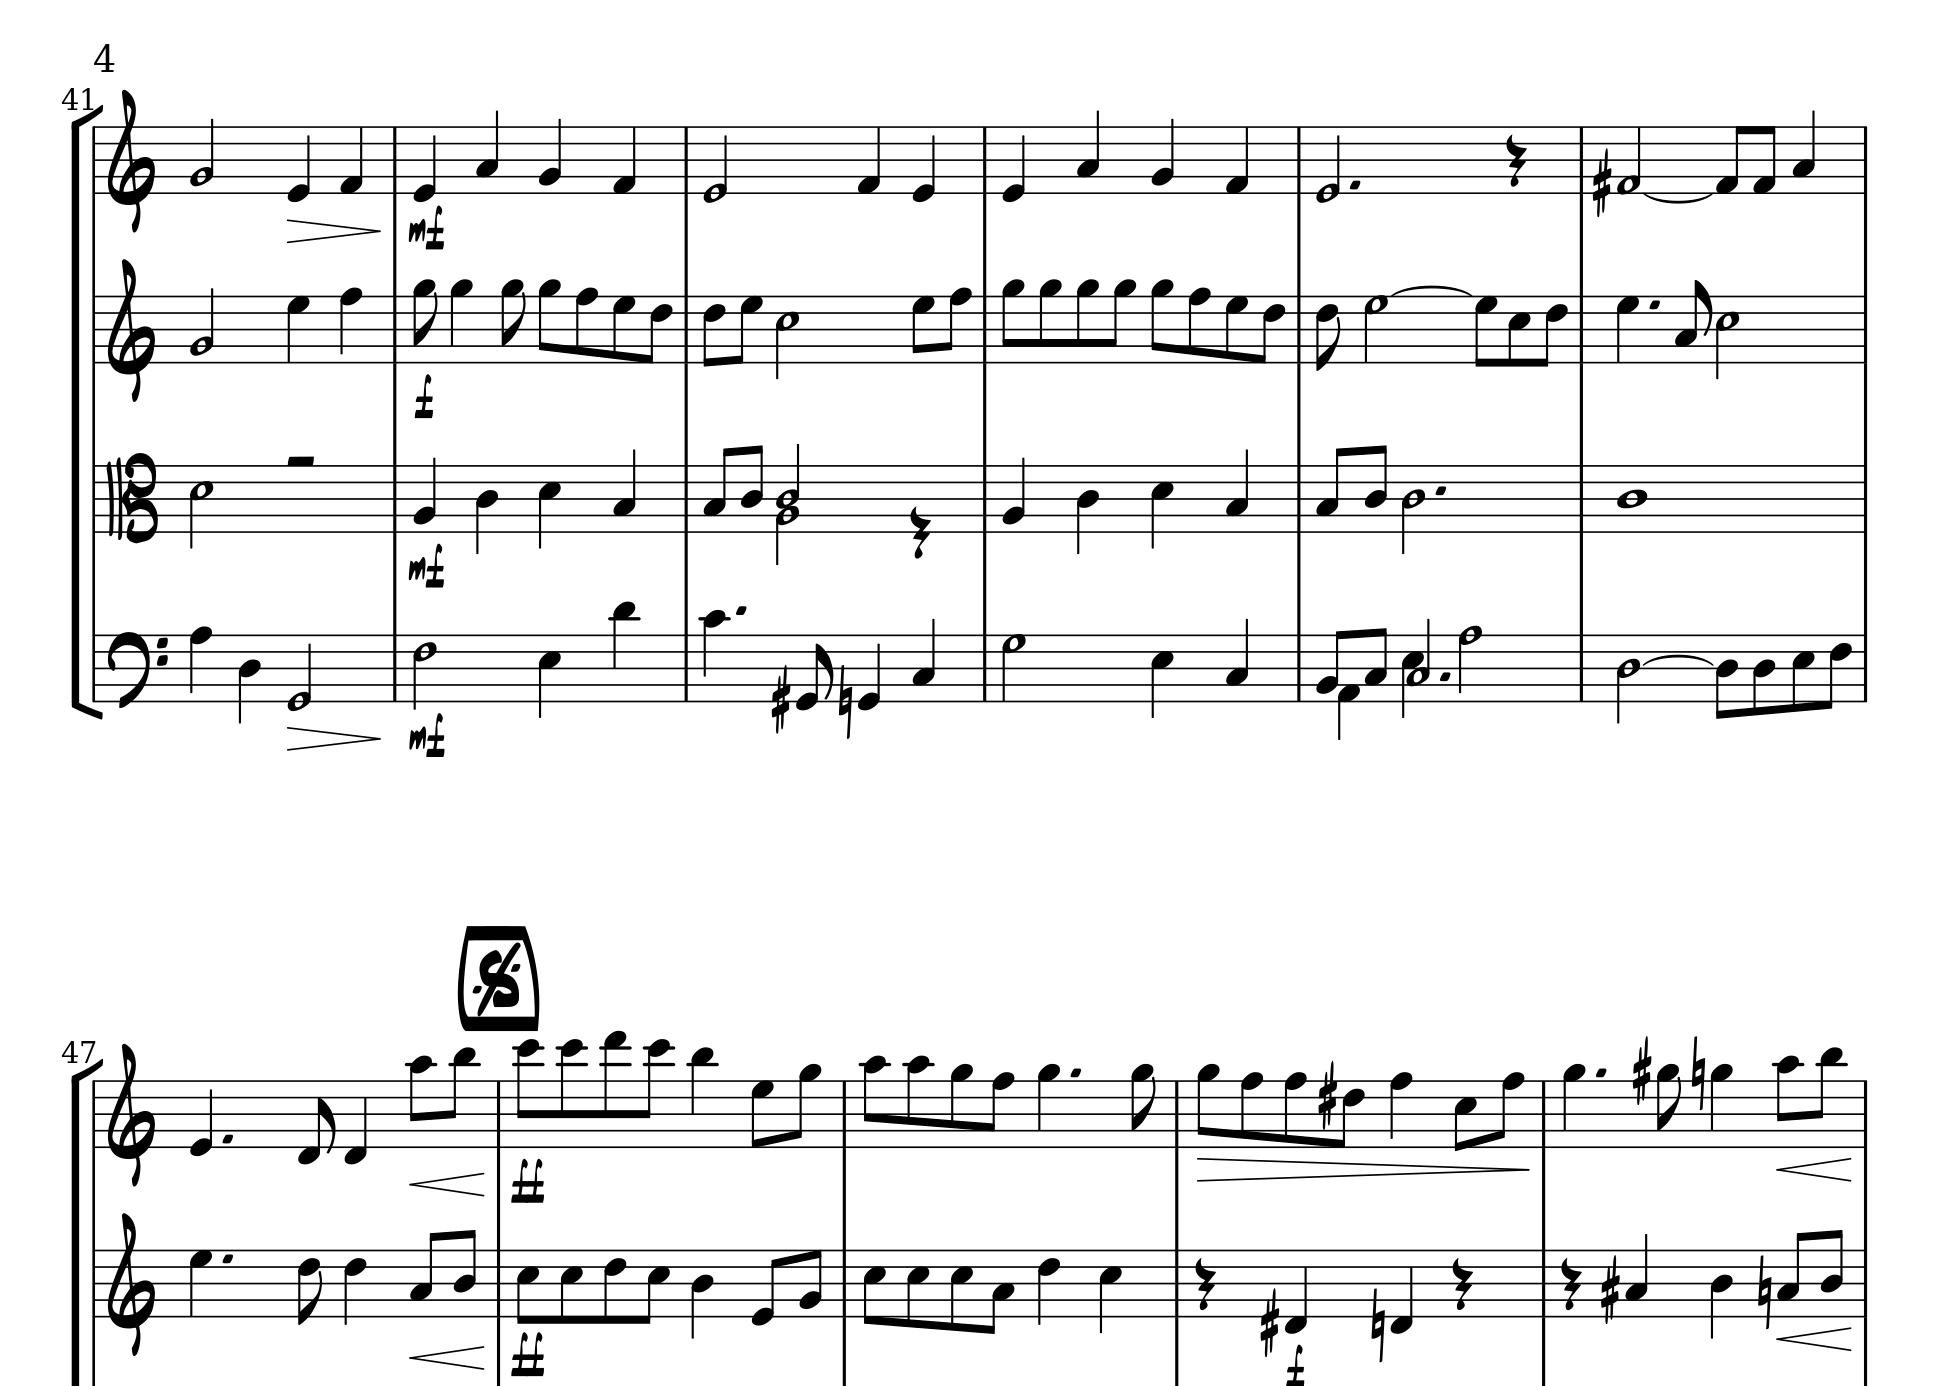1: (79, 85, 93, 109)
1_4: (1615, 462, 1648, 535)
2_0: (700, 123, 729, 204), (1314, 123, 1341, 202), (286, 630, 312, 711)
2_1: (1617, 123, 1644, 193)
2_2: (187, 285, 214, 364), (187, 115, 214, 193)
2_2_4: (775, 445, 802, 567)
2_4: (1614, 631, 1641, 724), (1401, 463, 1426, 555)
2_5: (772, 292, 799, 379), (1713, 292, 1740, 379), (187, 463, 214, 547)
2_6: (409, 631, 436, 711)
2_7: (999, 631, 1026, 703), (1362, 292, 1387, 364)
2_8: (1456, 624, 1482, 703)
4: (93, 40, 117, 72), (60, 84, 79, 112), (58, 1038, 79, 1063)
4_-1: (342, 1078, 369, 1165), (1389, 1246, 1414, 1335), (1284, 1246, 1308, 1333)
4_0: (910, 123, 937, 202), (1000, 123, 1027, 202), (187, 1078, 214, 1158), (285, 124, 312, 202), (411, 123, 436, 202), (856, 631, 880, 711)
4_1: (609, 124, 637, 195), (337, 123, 364, 195), (855, 123, 882, 195), (1224, 124, 1251, 195)
4_10: (700, 607, 727, 703)
4_11: (609, 598, 637, 703), (687, 1045, 715, 1150)
4_2: (535, 115, 562, 195), (1149, 115, 1176, 195), (1000, 454, 1027, 534), (411, 454, 438, 532)
4_3: (472, 108, 499, 193), (1074, 108, 1101, 193), (610, 447, 637, 532), (1224, 447, 1251, 532), (1791, 108, 1816, 195), (910, 616, 936, 702), (1224, 616, 1249, 702), (1624, 1231, 1650, 1317)
4_4: (1074, 463, 1101, 556), (1707, 1246, 1734, 1339), (472, 463, 499, 555), (235, 631, 261, 724), (688, 1248, 714, 1341)
4_5: (535, 631, 562, 720), (535, 463, 562, 550), (1149, 631, 1174, 720), (1149, 463, 1174, 550), (1098, 1248, 1122, 1335)
4_6: (1035, 1246, 1062, 1324), (342, 1246, 367, 1324)
4_7: (1614, 294, 1641, 364), (187, 1246, 213, 1318), (285, 294, 310, 364)
4_8: (186, 622, 213, 703), (1387, 1069, 1413, 1149), (337, 285, 361, 364)
4_9: (1035, 1062, 1062, 1150), (1560, 1062, 1587, 1149), (1708, 1060, 1734, 1149), (448, 276, 472, 364)
7: (79, 1036, 96, 1063)
8_-1: (295, 1077, 336, 1165)
8_0: (795, 631, 832, 711), (748, 1246, 781, 1327)
8_1: (1713, 123, 1746, 195), (1752, 123, 1777, 196)
8_10: (1773, 1053, 1801, 1149), (406, 1054, 435, 1149), (904, 1053, 931, 1149), (861, 1053, 886, 1147)
8_11: (442, 1045, 478, 1150), (1812, 1042, 1845, 1149)
8_12: (637, 1036, 673, 1149), (513, 1036, 543, 1150), (556, 1036, 586, 1150)
8_13: (600, 1030, 628, 1147)
8_2: (1314, 627, 1344, 702), (796, 1246, 823, 1317)
8_3: (1674, 277, 1710, 364), (408, 1228, 441, 1318), (1776, 1230, 1809, 1318), (700, 445, 733, 532), (1314, 445, 1347, 532), (984, 1246, 1014, 1336), (1363, 625, 1389, 703)
8_4: (451, 1227, 477, 1318), (1819, 1227, 1845, 1318), (1363, 442, 1389, 532), (1713, 633, 1738, 720), (739, 442, 763, 534), (1752, 631, 1776, 715)
8_5: (637, 1246, 670, 1324), (946, 1246, 973, 1332), (859, 1246, 886, 1324), (904, 1246, 930, 1327), (558, 1246, 583, 1324), (1506, 292, 1531, 367), (1452, 1077, 1477, 1152), (1791, 631, 1815, 711), (514, 1246, 538, 1324)
8_6: (1312, 292, 1342, 372), (640, 292, 673, 364), (1254, 292, 1287, 364), (1537, 292, 1569, 367), (1824, 631, 1852, 709), (1335, 1077, 1365, 1149), (295, 1246, 322, 1326), (700, 292, 726, 367), (601, 1246, 625, 1324)
8_7: (730, 292, 762, 364), (610, 292, 636, 364), (1473, 292, 1497, 367), (748, 1078, 774, 1149), (910, 292, 934, 364), (1224, 292, 1248, 364)
8_8: (1492, 1069, 1525, 1149), (940, 285, 972, 364), (982, 1069, 1014, 1149), (1281, 1069, 1308, 1150), (573, 285, 598, 364), (1186, 285, 1212, 364), (1239, 1069, 1264, 1149)
8_9: (1104, 277, 1137, 364), (789, 1062, 820, 1149), (409, 277, 438, 364), (1656, 1062, 1683, 1150), (499, 277, 526, 364), (999, 277, 1026, 364), (1074, 277, 1101, 364), (1128, 1063, 1155, 1150), (1194, 1062, 1221, 1149), (535, 277, 561, 364), (1038, 277, 1063, 364), (1149, 277, 1174, 364), (948, 1062, 973, 1147)
Bracke: (67, 99, 106, 730)
Cclef: (103, 451, 157, 543)
Crescendo_hairpin: (408, 1342, 487, 1372), (409, 1170, 486, 1198), (1776, 1156, 1854, 1183), (1776, 1324, 1854, 1351)
Diminuendo_hairpin: (283, 217, 382, 244), (286, 724, 382, 751)
Fclef: (106, 628, 168, 711)
Gclef: (105, 85, 157, 234), (105, 256, 157, 403), (105, 1039, 157, 1186), (105, 1210, 157, 1356)
Natural: (1368, 1285, 1387, 1360), (1689, 1033, 1707, 1110), (1755, 1252, 1773, 1329), (835, 664, 853, 739)
Rests2: (283, 450, 316, 471)
Rests4: (1503, 130, 1528, 189), (1449, 1255, 1474, 1312), (907, 504, 931, 561), (1192, 1255, 1216, 1312), (1558, 1255, 1582, 1312)
Segno: (471, 943, 523, 1012)
Sharp: (1629, 1033, 1653, 1105), (1315, 1060, 1338, 1129), (1590, 147, 1611, 217), (769, 664, 790, 733), (1258, 1288, 1279, 1357), (1599, 1255, 1620, 1324)
Single_barline: (976, 294, 994, 363), (835, 1078, 853, 1147), (1857, 126, 1875, 193), (1573, 463, 1591, 531), (1855, 465, 1873, 532), (1536, 1080, 1554, 1147), (385, 465, 403, 531), (1573, 124, 1590, 193), (678, 463, 694, 532), (976, 463, 993, 532), (1857, 633, 1873, 702), (1291, 126, 1308, 193), (1573, 294, 1590, 361), (1291, 463, 1308, 531), (976, 633, 993, 700), (1291, 633, 1308, 700), (1573, 633, 1590, 700), (1857, 1078, 1873, 1146), (678, 127, 694, 193), (976, 127, 993, 193), (85, 295, 102, 361), (1857, 295, 1873, 361), (678, 634, 694, 700), (1536, 1249, 1552, 1315), (85, 465, 102, 529), (387, 634, 403, 699), (837, 1246, 852, 1317), (1291, 294, 1306, 363), (679, 295, 694, 364), (87, 126, 102, 193), (87, 1080, 102, 1147), (1170, 1080, 1185, 1147), (387, 126, 402, 192), (387, 295, 402, 361), (87, 634, 102, 700), (1170, 1249, 1185, 1315), (87, 1249, 102, 1315), (1857, 1249, 1872, 1315), (490, 1080, 505, 1144), (492, 1249, 505, 1315)
Slur: (1390, 283, 1473, 297), (1642, 652, 1716, 666), (1644, 192, 1714, 204)
dot: (732, 601, 750, 619), (1432, 481, 1449, 498), (1647, 295, 1662, 313), (1347, 175, 1363, 190), (1066, 1063, 1083, 1078), (220, 1129, 235, 1144), (219, 1251, 235, 1264), (1437, 669, 1452, 682), (1593, 1065, 1608, 1078)
f: (412, 372, 435, 420), (1284, 1342, 1305, 1384)
ff: (508, 1327, 546, 1375), (508, 1156, 546, 1203)
mf: (406, 712, 447, 759), (406, 202, 445, 250), (406, 541, 445, 588)
